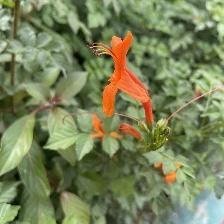honeysuckle: (87, 27, 164, 127)
